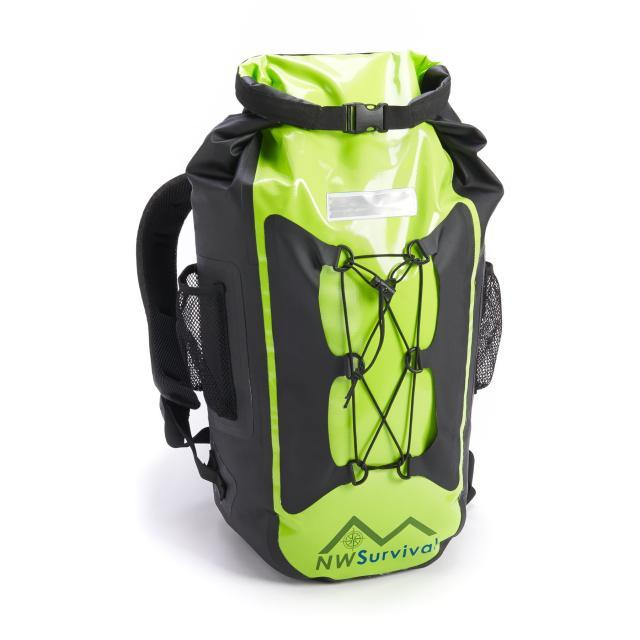Backpacks: (179, 46, 498, 584)
